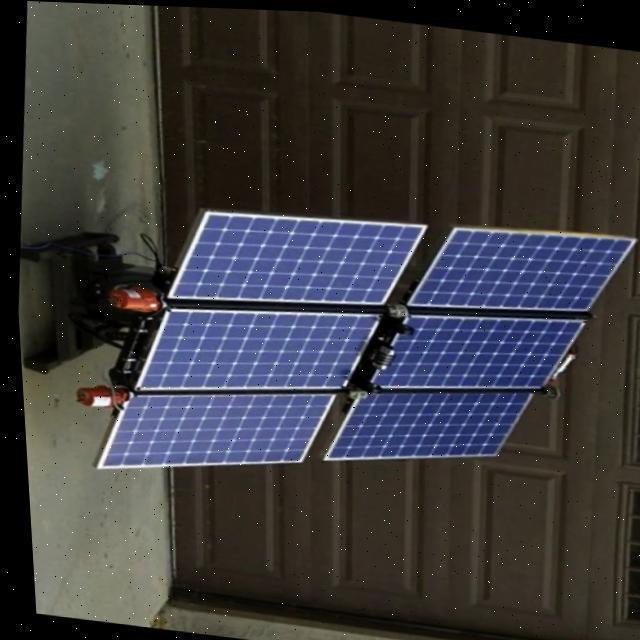Normal Solar Panel: (159, 193, 427, 324), (128, 284, 378, 414), (86, 366, 334, 494), (400, 208, 637, 326), (366, 294, 584, 408), (314, 366, 530, 481)
